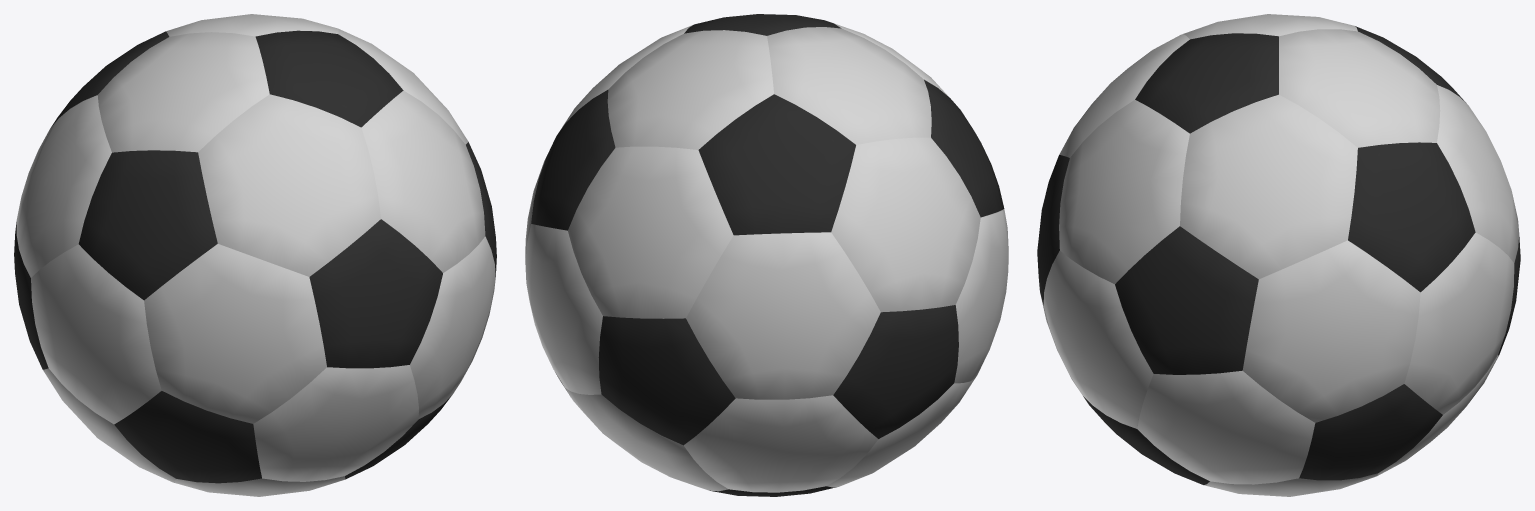
File: ball.fbx
The picture shows the model from 3 angles, left to right: view 1: azimuth 30°, elevation 25°; view 2: azimuth 150°, elevation 25°; view 3: azimuth 270°, elevation 25°; orthographic projection.
Parts seen in each view (by area): view 1: pSolid1; view 2: pSolid1; view 3: pSolid1.
Part boxes in pixels (<box>): pSolid1: <box>14,14,496,496</box>; pSolid1: <box>525,14,1008,496</box>; pSolid1: <box>1037,14,1520,496</box>.
Bounding box in the file's own units: 2.2 × 2.2 × 2.2.
